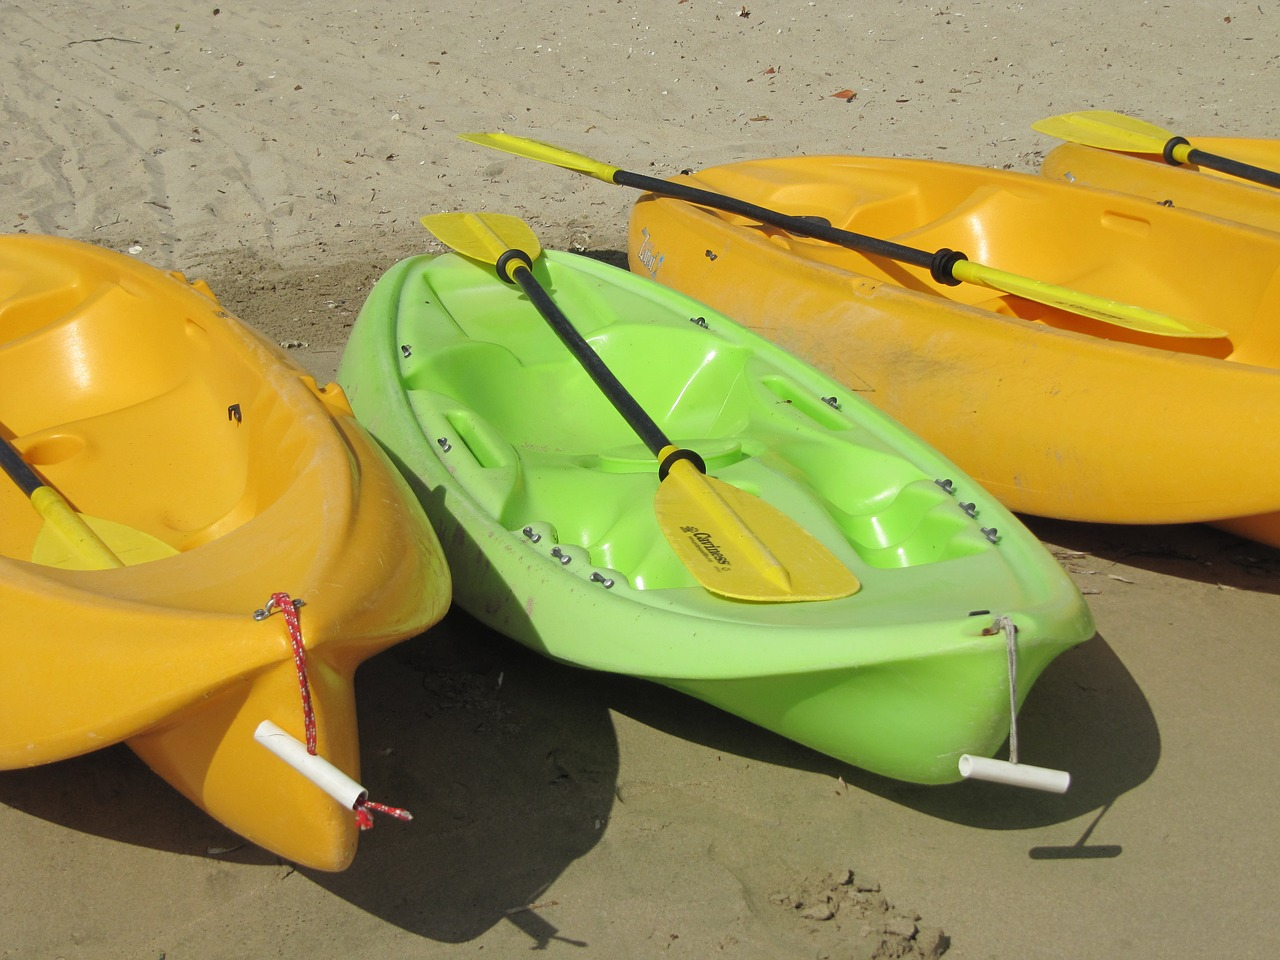kayak: (318, 224, 1102, 800)
